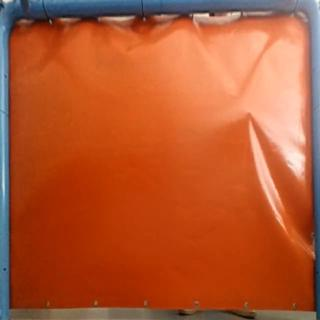Hit-hRxx: (244, 108, 258, 118)
